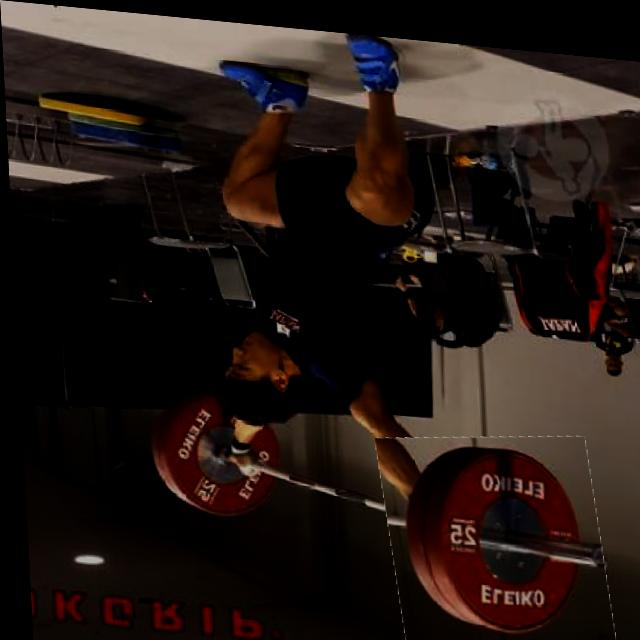barbell: (376, 415, 606, 640)
